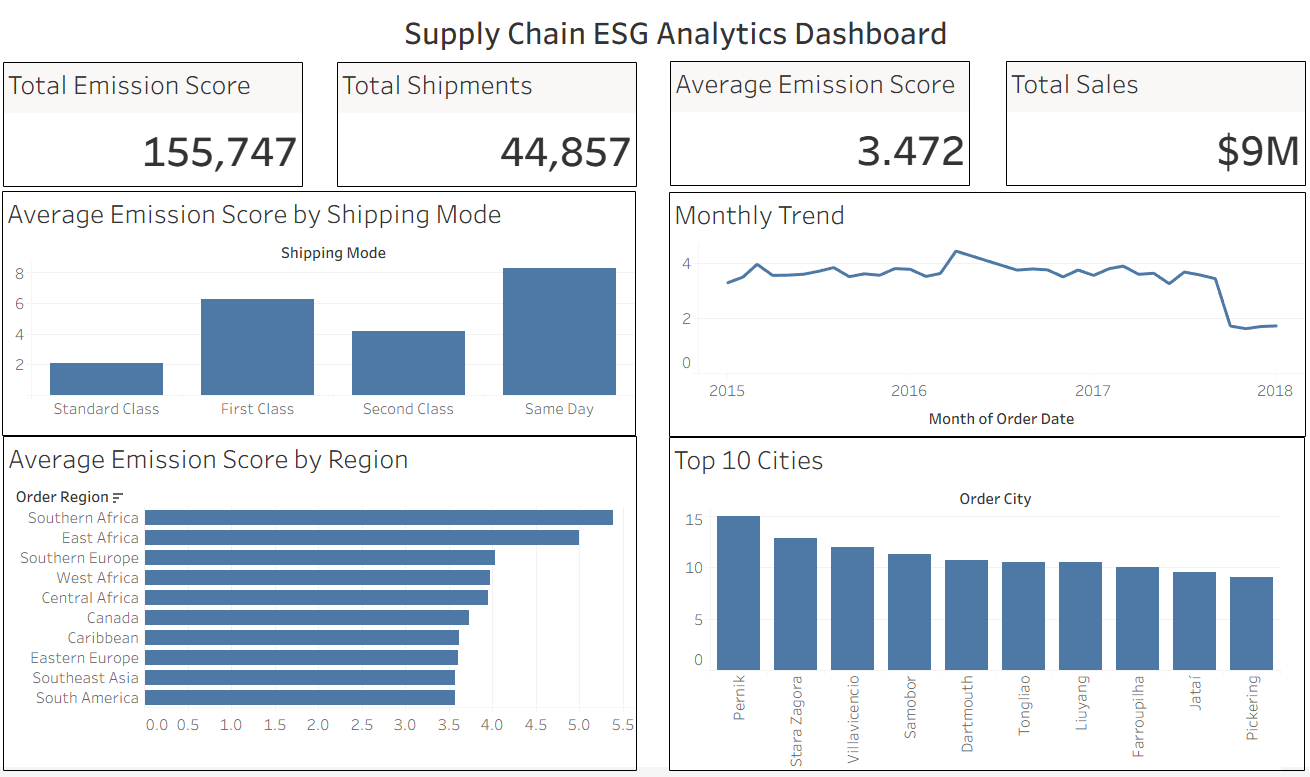

Layout of this report page (visuals, bound fields, positions):
{"tool":"tableau","page":{"name":"Dashboard 1","canvas":[1366,768],"ordinal":0},"visuals":[{"type":"title","box":[8,8,1350,49]},{"type":"worksheet","title":"Average Emission Score","mark":"Automatic","box":[677,62,300,125]},{"type":"worksheet","title":"Total Sales","mark":"Automatic","box":[1013,62,300,125]},{"type":"worksheet","title":"Total Estimated Emission Score","mark":"Automatic","box":[10,63,300,125]},{"type":"worksheet","title":"Total Shipments","mark":"Automatic","box":[344,63,300,125]},{"type":"worksheet","title":"Emission Score by Shipping Mode","mark":"Automatic","rows":["estimated_emission_score"],"cols":["shipping_mode"],"box":[39,204,606,245]},{"type":"filter","title":"Monthly Trend","param":"[federated.1i4zhrc0zn66w912182361lthk5v].[none:order_month:qk]","box":[505,204,160,65]},{"type":"filter","title":"Monthly Trend","param":"[federated.1i4zhrc0zn66w912182361lthk5v].[none:order_year:qk]","box":[505,204,160,65]},{"type":"worksheet","title":"Monthly Trend","mark":"Automatic","rows":["estimated_emission_score"],"cols":["order_year","order_month"],"box":[675,204,606,245]},{"type":"worksheet","title":"Top 10 Cities","mark":"Automatic","rows":["order_city"],"cols":["estimated_emission_score"],"box":[676,471,634,295]},{"type":"worksheet","title":"Emission Score by Region","mark":"Automatic","rows":["order_region"],"cols":["estimated_emission_score"],"box":[10,472,634,295]}]}

Visuals, with their boxes in screenshot pixels (x1, y1, x2, y2):
title: x1=55, y1=11, x2=1287, y2=55
"Average Emission Score" worksheet: x1=665, y1=60, x2=939, y2=174
"Total Sales" worksheet: x1=972, y1=60, x2=1246, y2=174
"Total Estimated Emission Score" worksheet: x1=57, y1=61, x2=331, y2=175
"Total Shipments" worksheet: x1=362, y1=61, x2=635, y2=175
"Emission Score by Shipping Mode" worksheet: x1=83, y1=190, x2=636, y2=413
"Monthly Trend" filter: x1=508, y1=190, x2=654, y2=249
"Monthly Trend" filter: x1=508, y1=190, x2=654, y2=249
"Monthly Trend" worksheet: x1=664, y1=190, x2=1216, y2=413
"Top 10 Cities" worksheet: x1=664, y1=433, x2=1243, y2=702
"Emission Score by Region" worksheet: x1=57, y1=434, x2=635, y2=703
